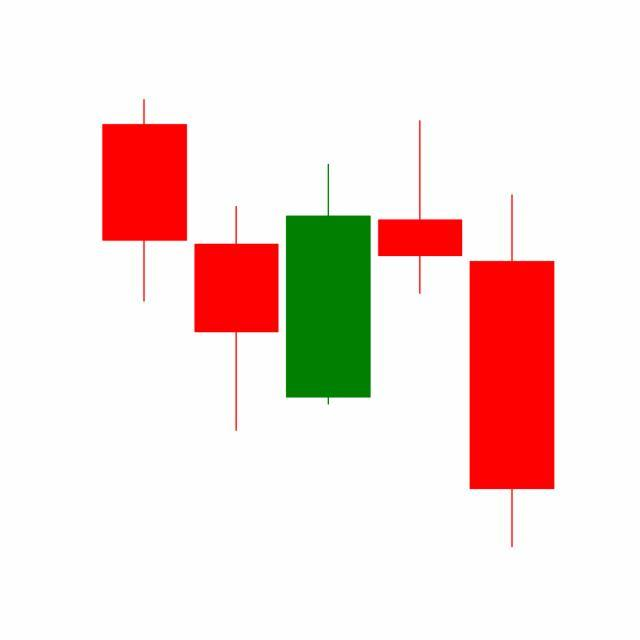Three Inside Up-Down: (280, 116, 555, 549)
